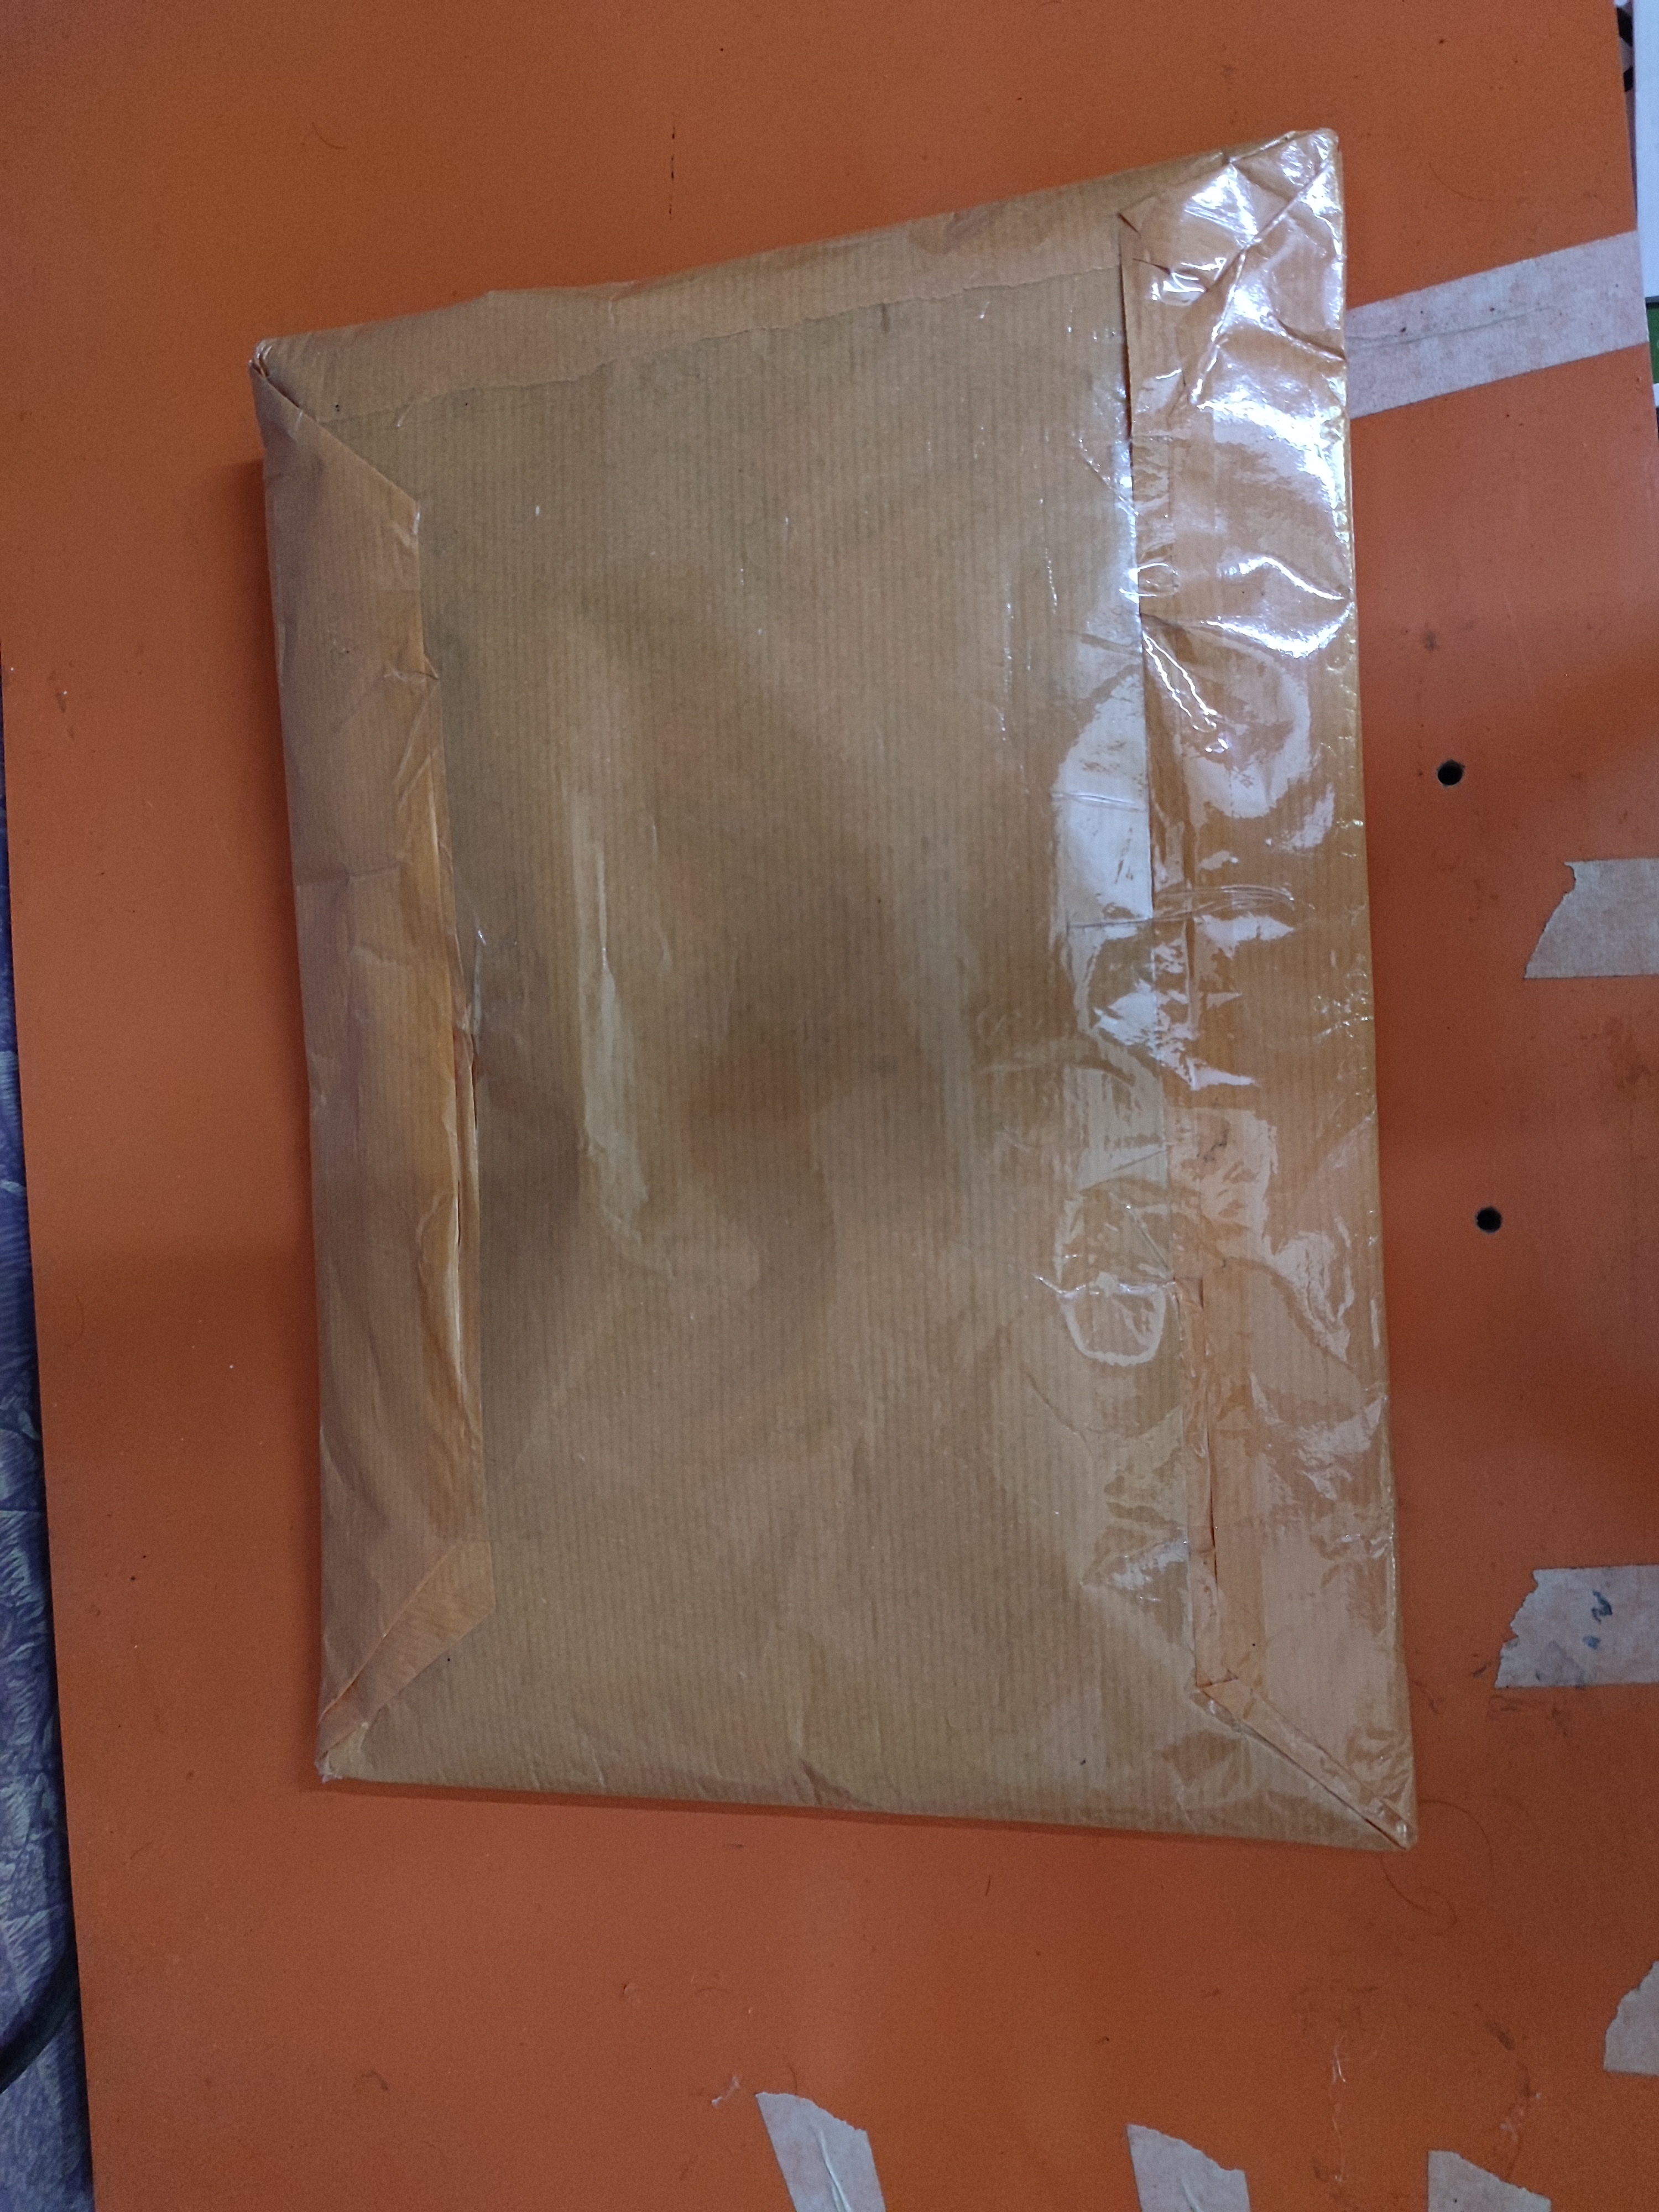Box: (185, 237, 1467, 1958)
